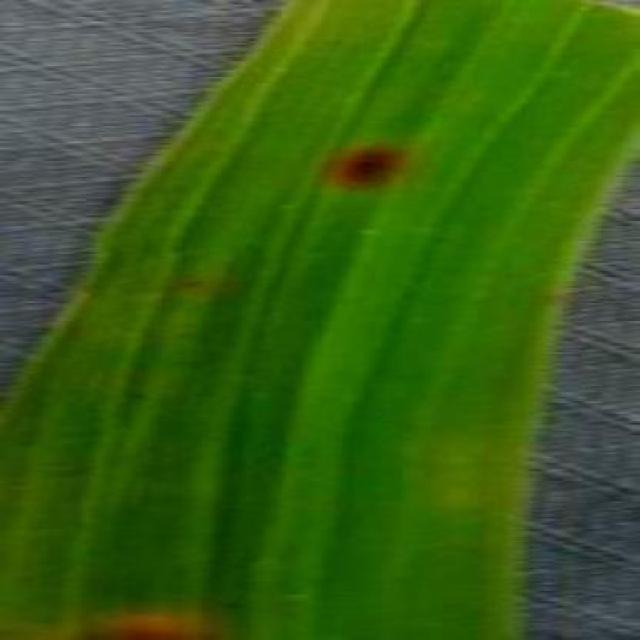Leaf_Blast: (32, 595, 228, 640), (304, 129, 422, 196), (413, 208, 472, 258), (43, 448, 102, 492), (178, 246, 208, 299), (120, 372, 155, 408), (269, 187, 306, 218), (2, 468, 36, 501), (213, 589, 252, 616), (323, 23, 351, 51), (204, 134, 227, 155), (254, 68, 272, 87)
